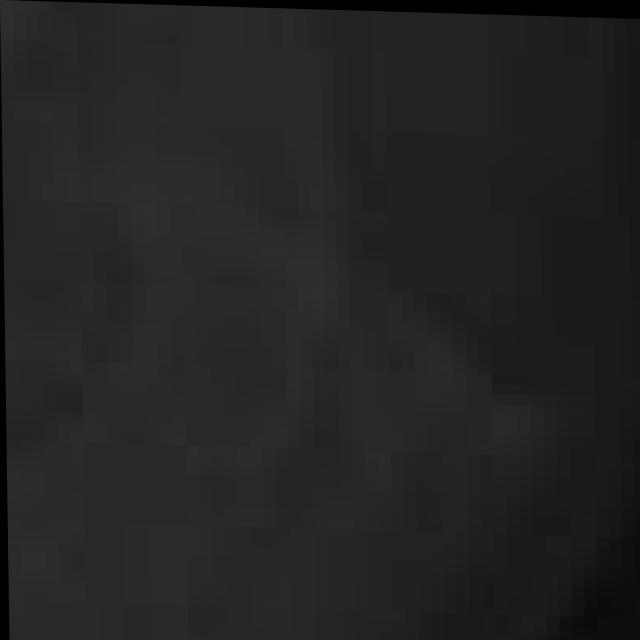fracture: (4, 2, 640, 640)
